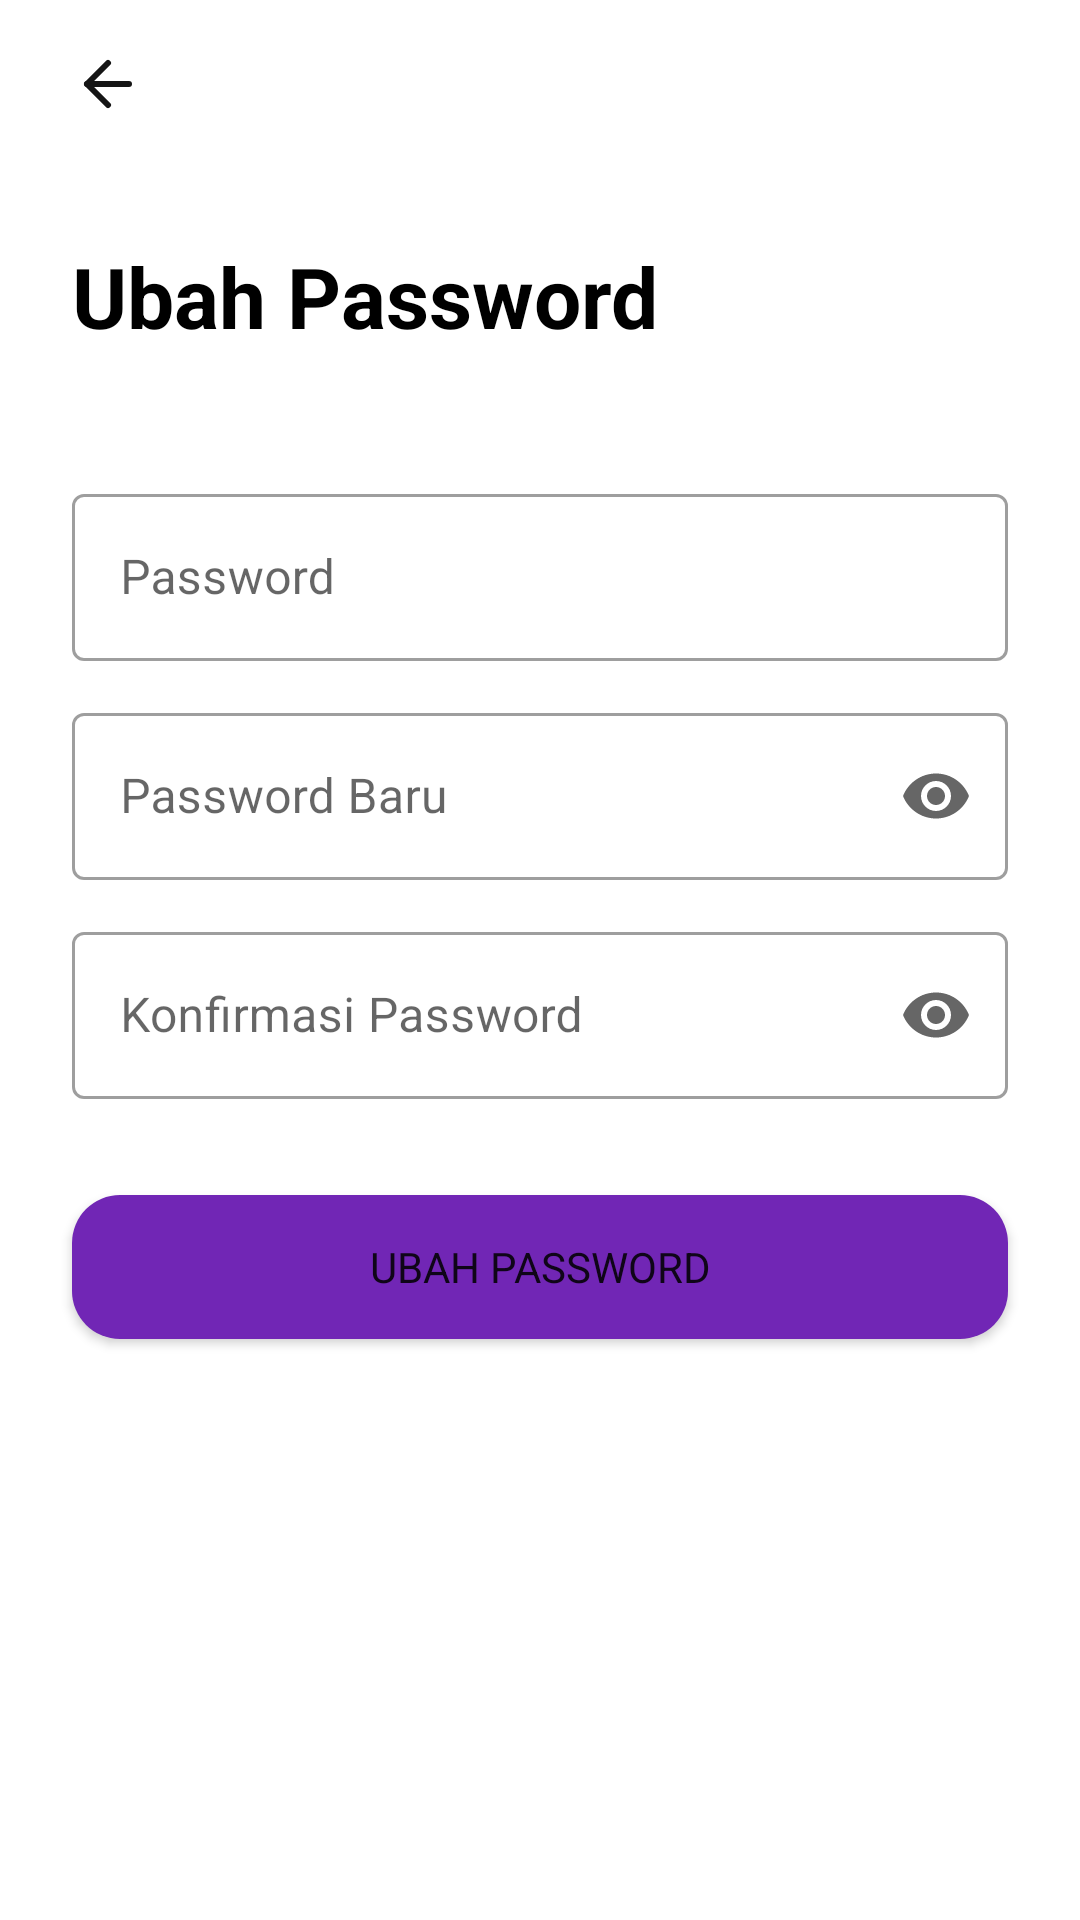

Screen size 1080×1920. Icon name, then its box in pixels as (x1,y1,x2,y2):
arrow left: (84,60,132,108)
